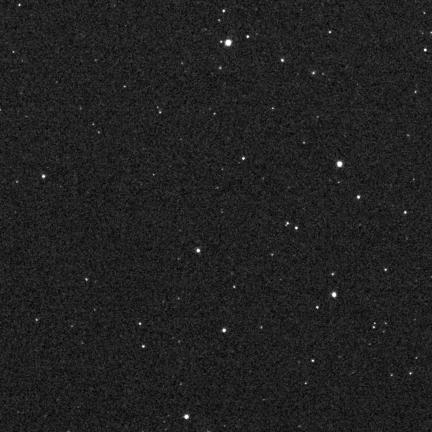blob: (225, 40, 232, 46), (332, 292, 337, 298), (337, 161, 342, 167), (184, 414, 189, 419), (222, 329, 227, 333)
